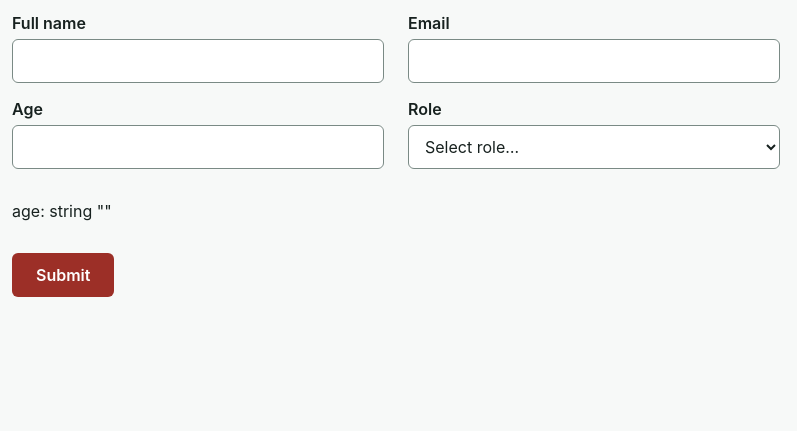
Scenario: InputField › reveals errors on untouched fields after a submit attempt
The image size is (797, 431).
Click the button "Submit" at (63, 275), box x1=12 y1=253 x2=114 y2=297
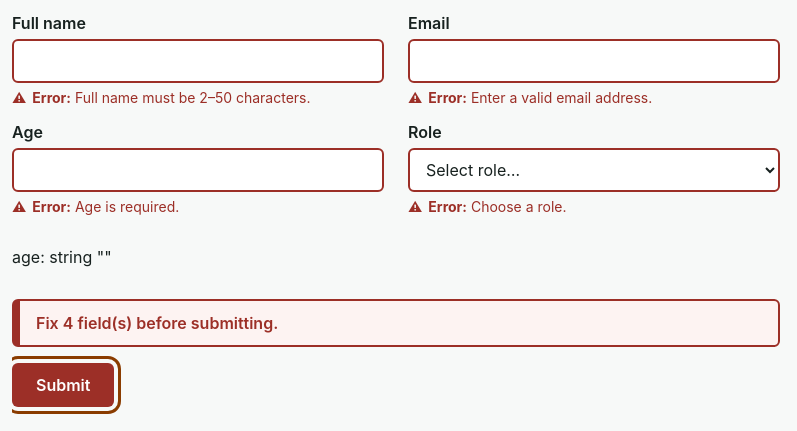
Expected: the number field labelled "Age" is marked as invalid, x1=12 y1=148 x2=384 y2=192
Expected: the dropdown labelled "Role" is marked as invalid, x1=408 y1=148 x2=780 y2=192
